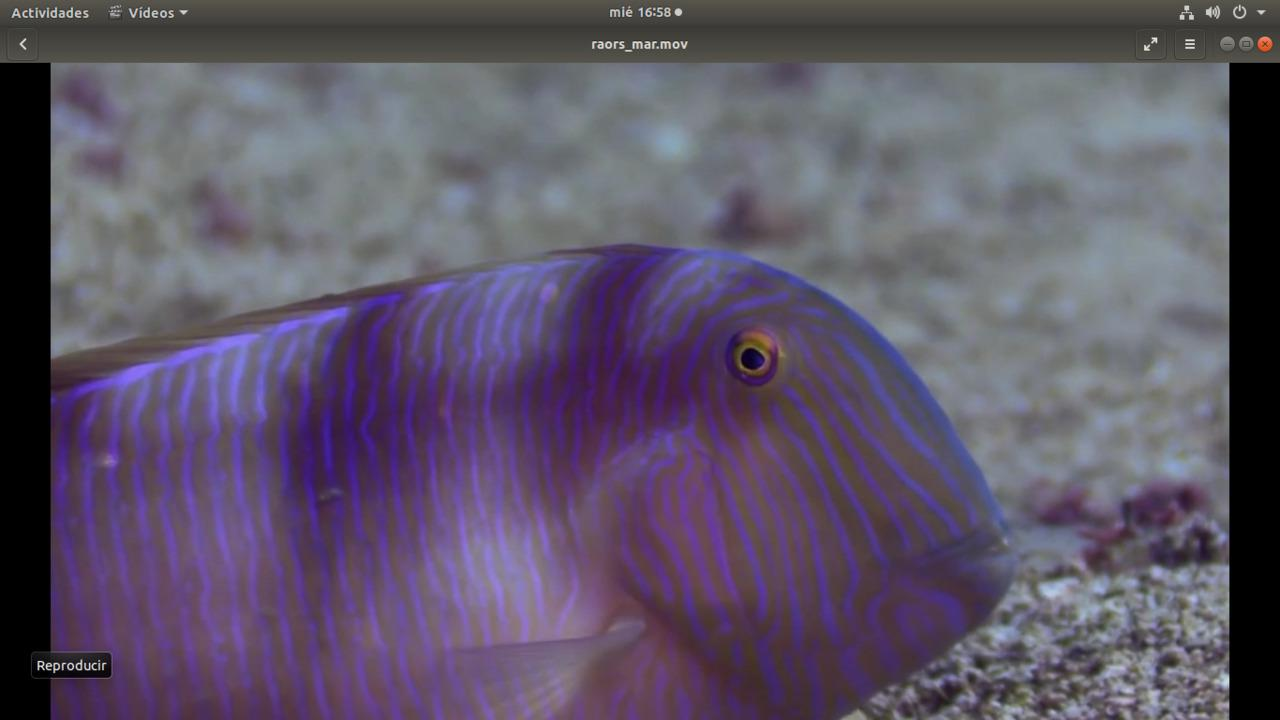raor: (121, 233, 1025, 710)
